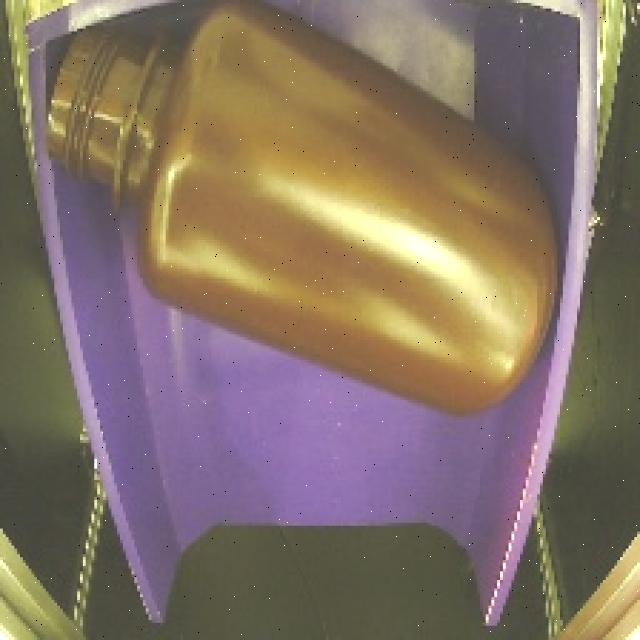plastic: (19, 0, 588, 426)
